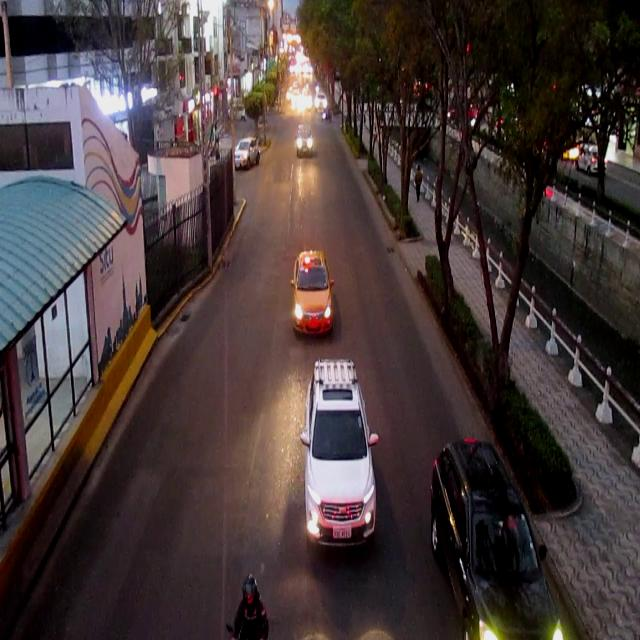MOTORCYCLE: (232, 575, 267, 640)
SUV: (427, 439, 559, 639), (310, 361, 374, 542), (237, 141, 260, 171)
